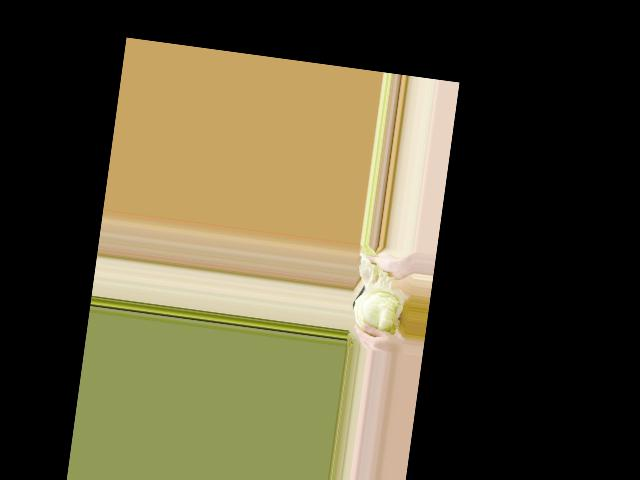lettuce: (348, 273, 410, 340)
